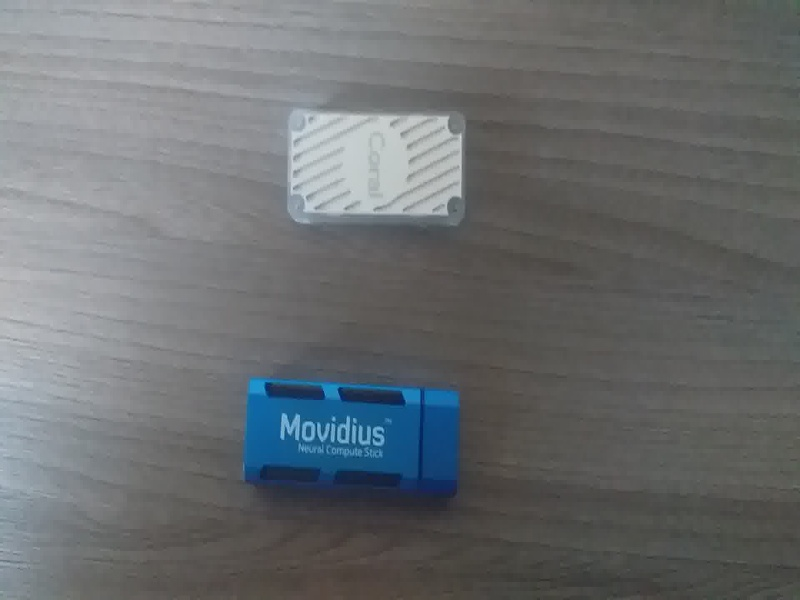coral: (275, 101, 475, 235)
movidius: (238, 372, 469, 512)
